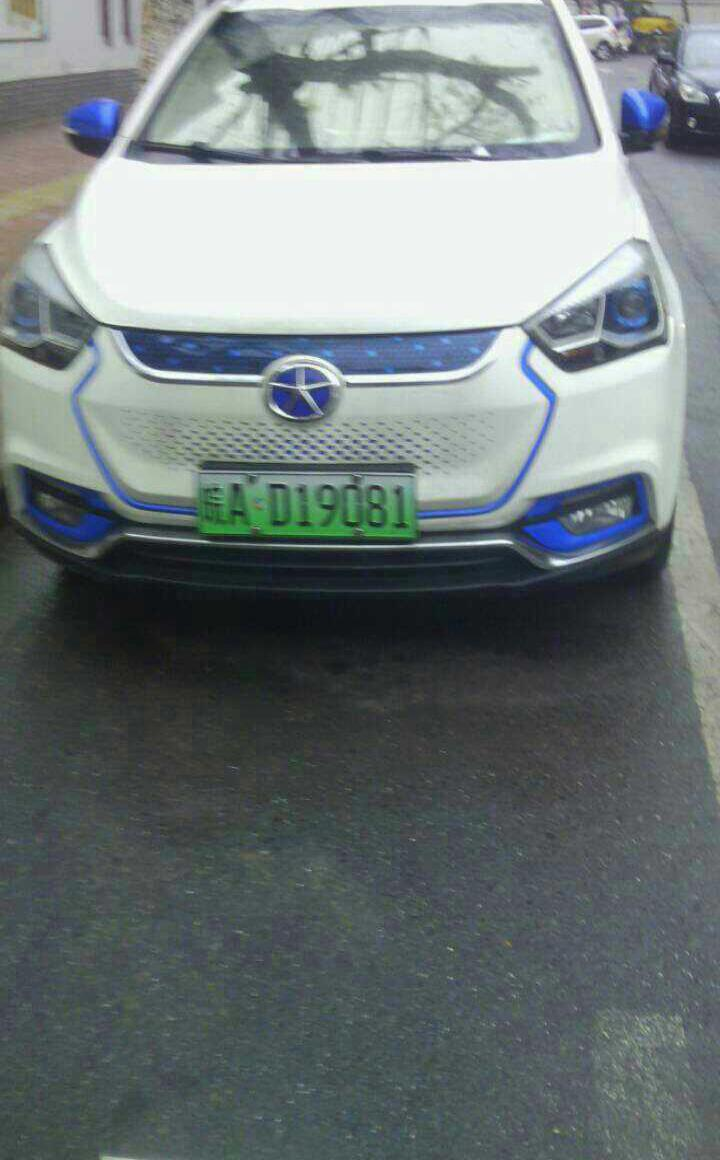car: (192, 466, 421, 541)
